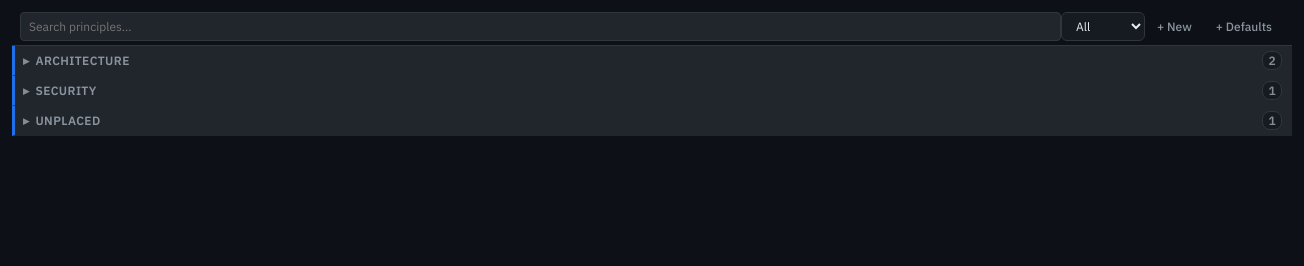
Test: principles tree (PRN-03) › shows areas first, then categories, then principles, all collapsed to start with
expect the text "Defence in depth" is not shown: met
Click the button "▸ Architecture 2". click: click(83, 60)
box: [12,46,1292,76]
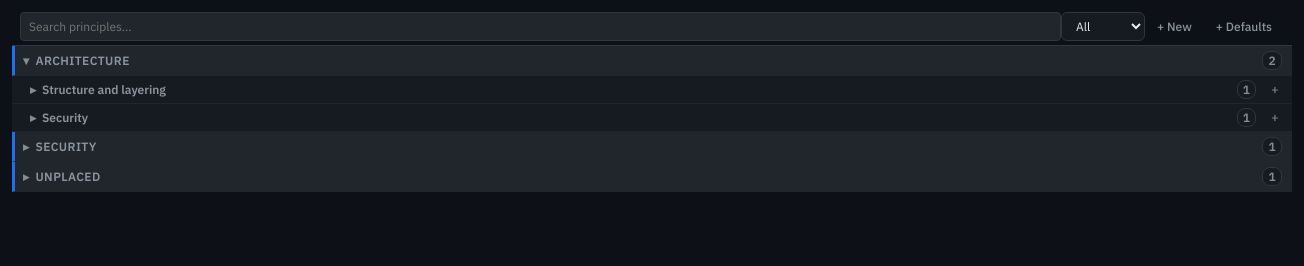
expect the text "Defence in depth" is not shown: met
Click the 1st button "▸ Security 1". click: click(65, 118)
box: [26,104,1264,131]
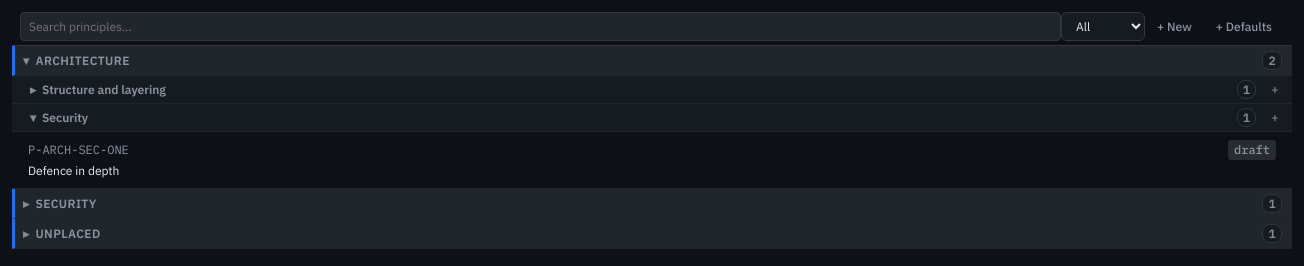
expect the text "Defence in depth" is shown: met, box [28,163,119,178]
